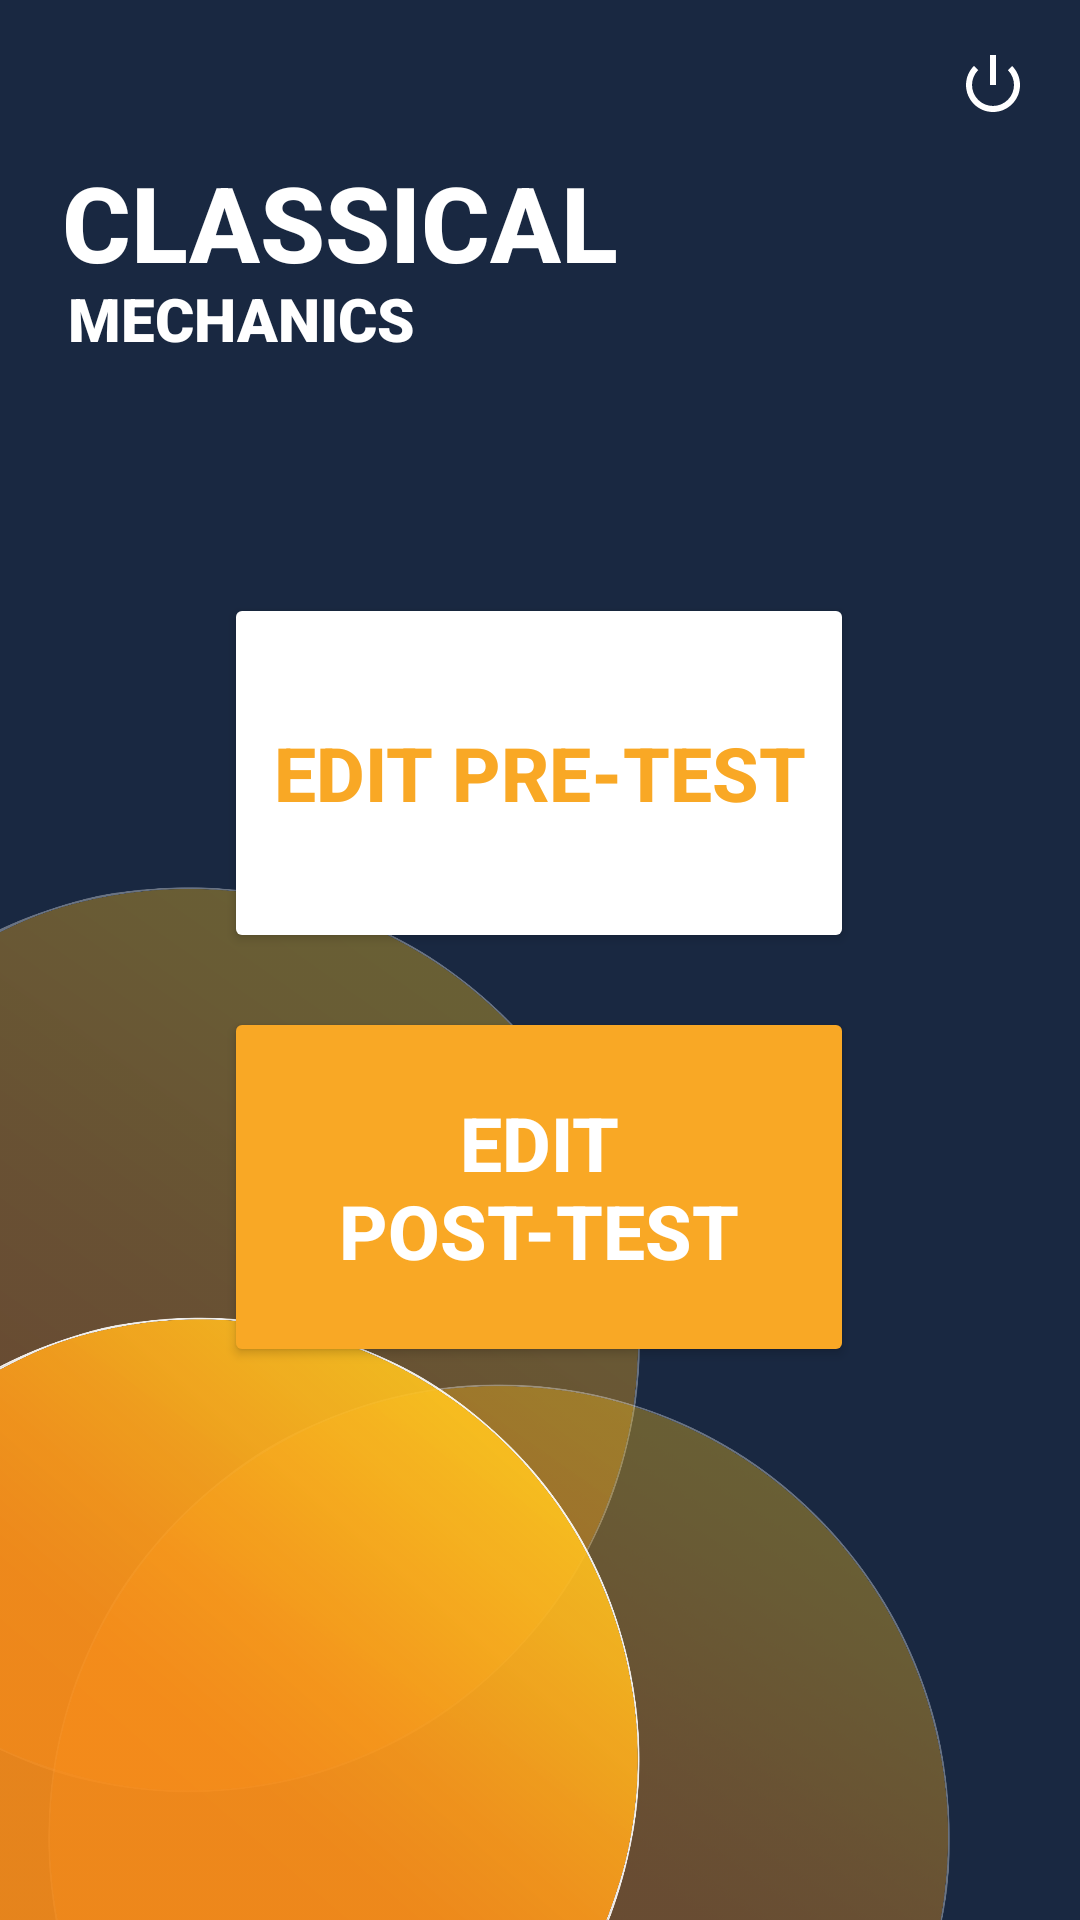

Icons on this 1080px x 1920px Android screen, each with the point to tap as (x=x, y=y):
lock power off: (x=993, y=83)
